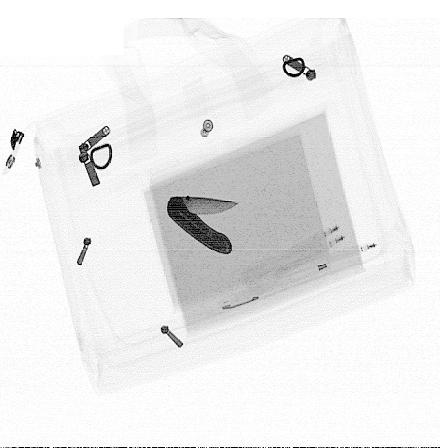Knife: (166, 194, 241, 256)
